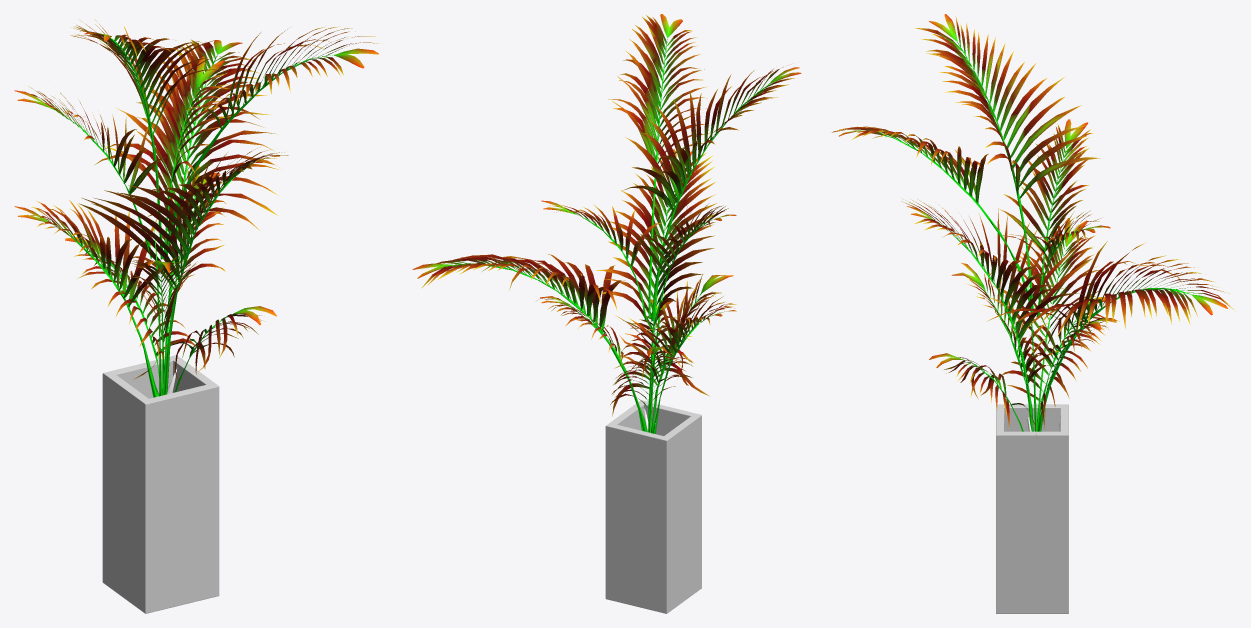
File: plants.fbx
3 views of the same model, side by side, from view 1: azimuth 30°, elevation 25°; view 2: azimuth 150°, elevation 25°; view 3: azimuth 270°, elevation 25° (orthographic). The views are drawn at different scales.
Visible parts, largest first — view 1: Cube.014, _axys_Var1_LOD0.001, _njje_Var3_LOD0.001, _q009_Var4_LOD0.001; view 2: Cube.014, _njje_Var3_LOD0.001, _axys_Var1_LOD0.001, _q009_Var4_LOD0.001; view 3: Cube.014, _njje_Var3_LOD0.001, _axys_Var1_LOD0.001, _q009_Var4_LOD0.001.
Part boxes in pixels (x1,y1,x2,y2): Cube.014: [102, 355, 219, 613]; _axys_Var1_LOD0.001: [14, 39, 288, 397]; _njje_Var3_LOD0.001: [14, 19, 380, 259]; _q009_Var4_LOD0.001: [65, 165, 276, 395]; Cube.014: [605, 400, 701, 613]; _njje_Var3_LOD0.001: [541, 14, 801, 325]; _axys_Var1_LOD0.001: [412, 149, 736, 433]; _q009_Var4_LOD0.001: [537, 275, 733, 432]; Cube.014: [996, 404, 1068, 613]; _njje_Var3_LOD0.001: [832, 14, 1110, 316]; _axys_Var1_LOD0.001: [901, 198, 1233, 431]; _q009_Var4_LOD0.001: [929, 263, 1119, 437].
Size of the model in its own units: 210 by 392 by 272.
